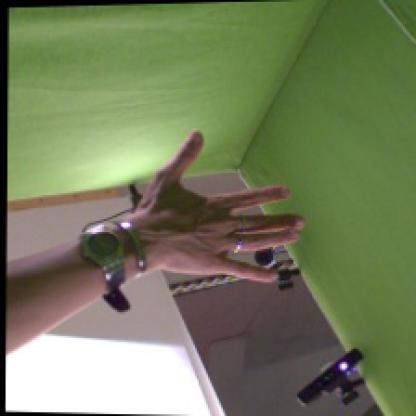Hand: (133, 130, 307, 285)
